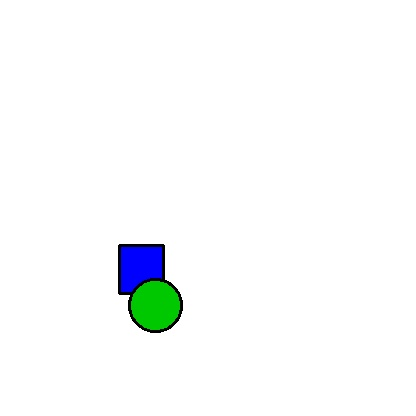circle: (96, 279, 215, 331)
rectangle: (119, 245, 163, 293)
